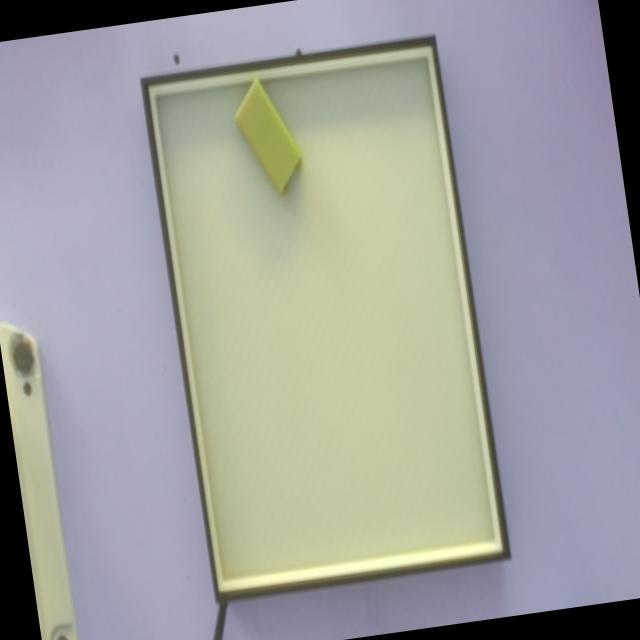bateria: (234, 79, 304, 196)
mesa: (141, 34, 512, 604)
